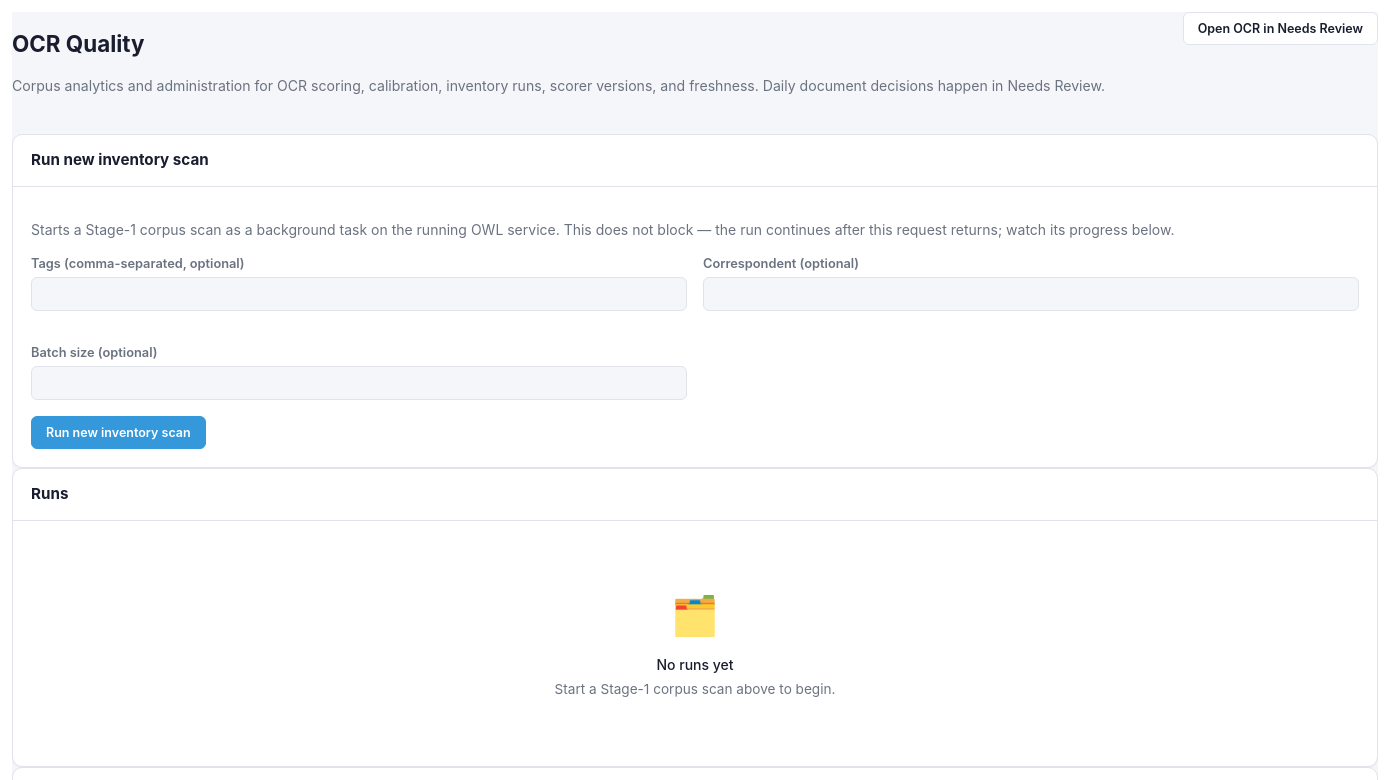
Test case: OcrQualityDashboard — Runs panel (manual trigger, issue #30) › starts a new corpus scan and shows the returned run_id
Check: the text "No runs yet" is shown, box x1=656 y1=656 x2=734 y2=674
Step 1. Click the button "Run new inventory scan" → (118, 432), box x1=31 y1=416 x2=206 y2=449
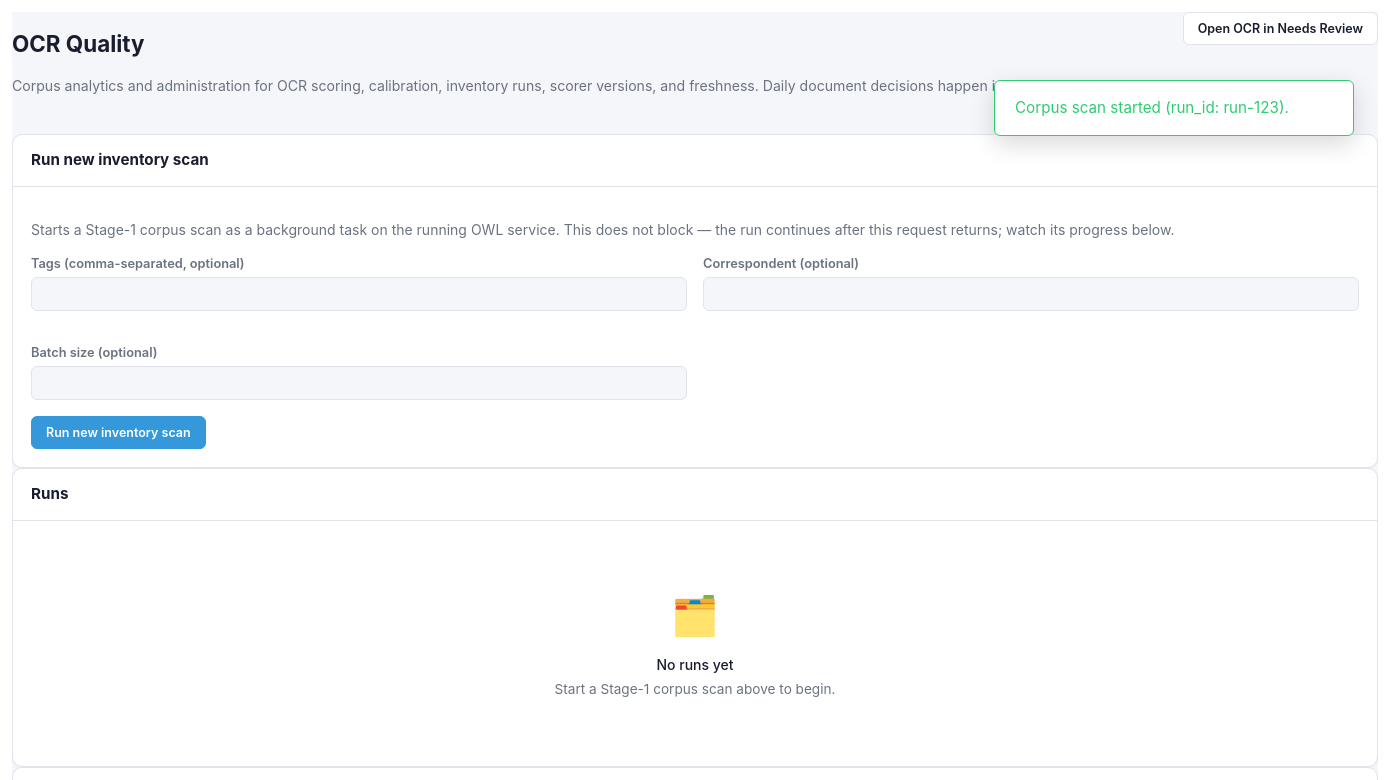
Check: the text "Corpus scan started (run_id: run-123)." is shown, box x1=1015 y1=97 x2=1333 y2=119
